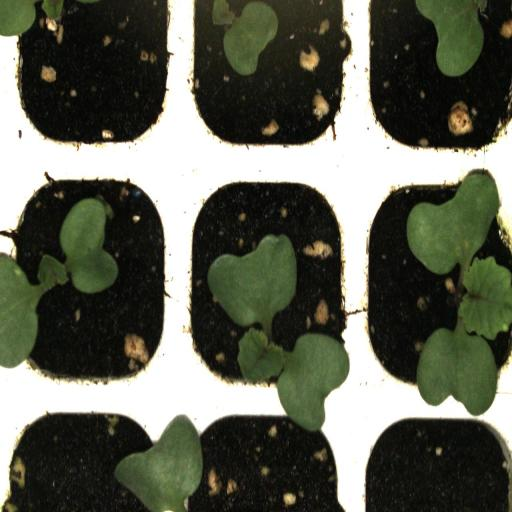seedling: (180, 158, 356, 408), (2, 156, 178, 402), (357, 156, 512, 410)
